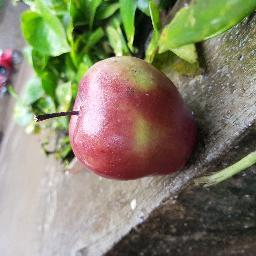Good_apple: (71, 53, 203, 179)
